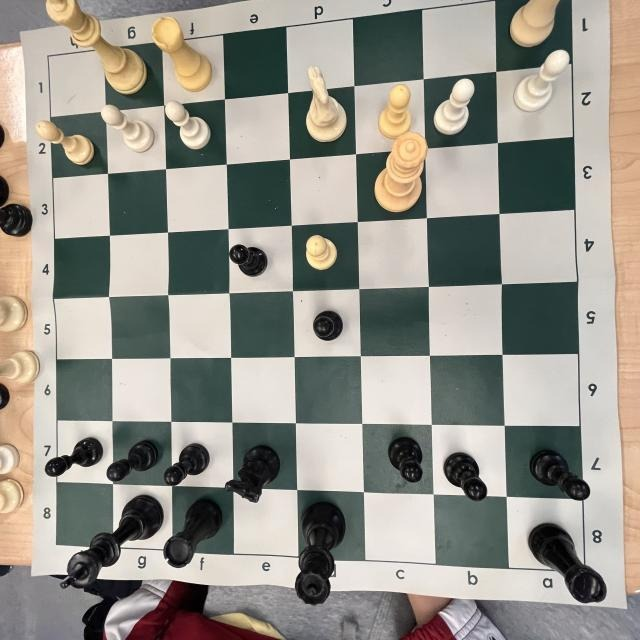black-king: (57, 492, 162, 594)
black-knight: (222, 440, 281, 503)
black-pawn: (527, 446, 592, 502), (45, 435, 102, 481), (104, 437, 156, 487), (442, 450, 490, 502), (164, 441, 209, 482), (386, 436, 424, 484), (1, 166, 23, 246), (229, 242, 269, 277), (309, 310, 342, 344)
black-queen: (289, 501, 347, 607)
black-rook: (526, 519, 609, 608), (164, 496, 224, 568)
white-king: (46, 0, 150, 95)
white-pawn: (514, 48, 570, 113), (438, 59, 478, 144), (100, 103, 156, 153), (36, 120, 95, 167), (163, 101, 213, 150), (378, 82, 413, 137), (301, 233, 336, 267)
white-queen: (374, 133, 424, 213)
white-rook: (149, 15, 213, 93), (304, 61, 345, 147)
